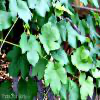grape leaf: (20, 31, 42, 69), (38, 22, 61, 56), (6, 45, 29, 79), (8, 0, 32, 30), (70, 46, 91, 73), (77, 71, 96, 100), (51, 43, 69, 65)
